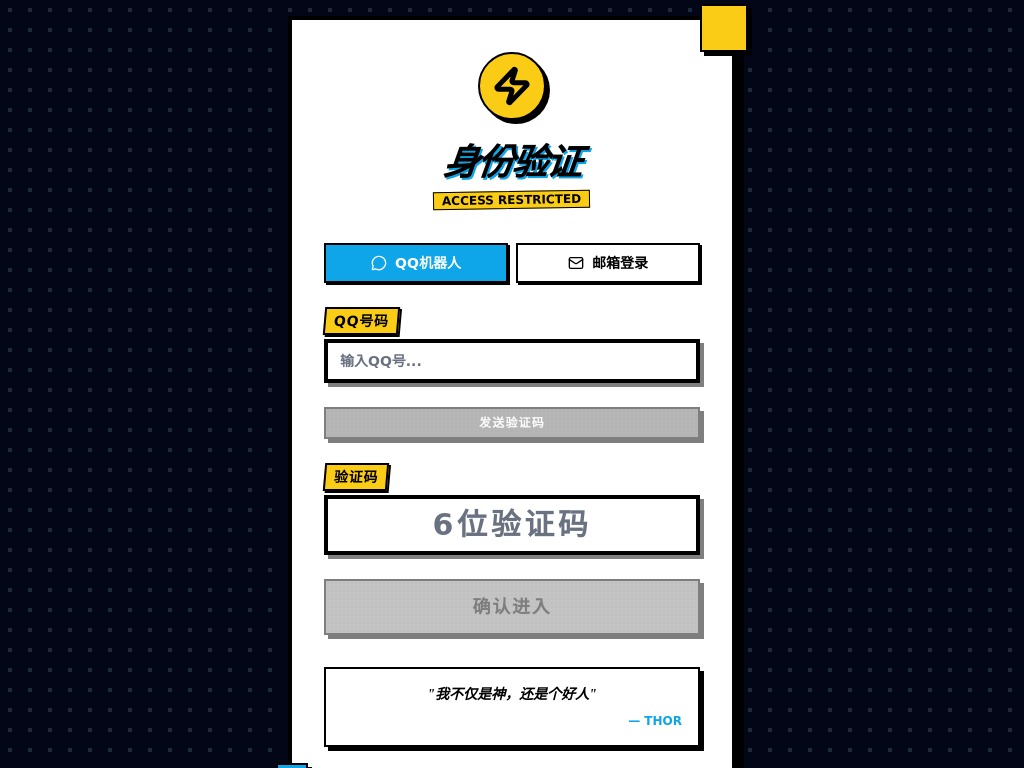
Test: LoginPage › shows backend error detail when login fails
In the field labelled "QQ号码": (512, 361) [324,339,700,383], type "123456789"
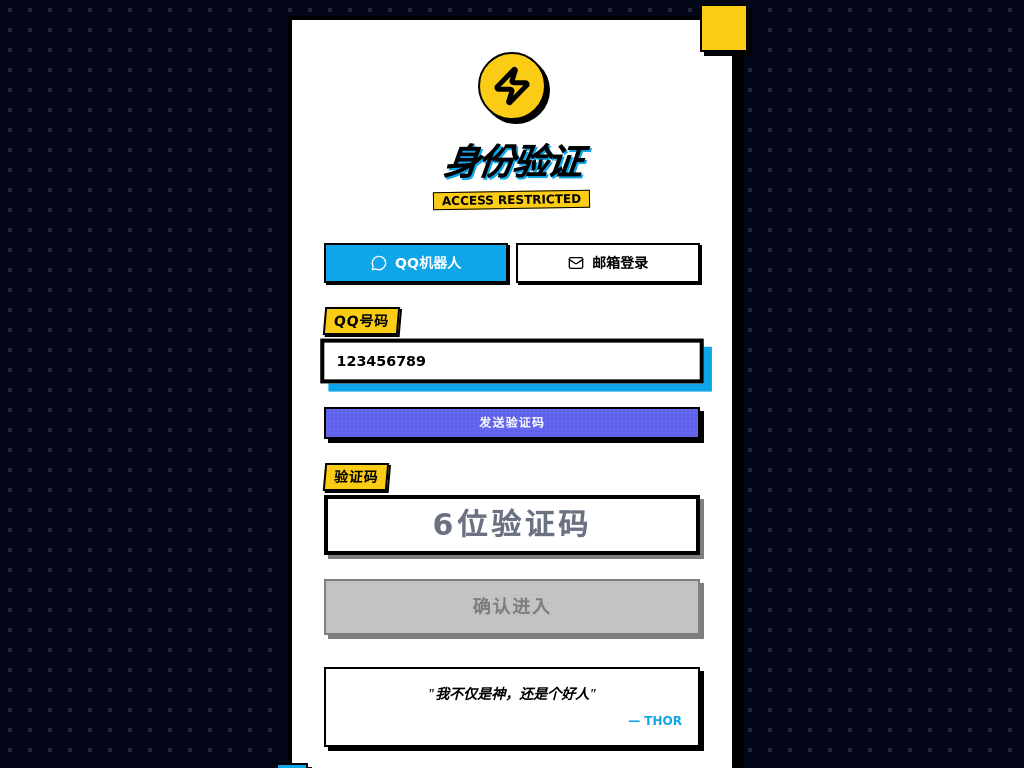
In the field labelled "验证码": (512, 525) [324,495,700,555], type "123456"
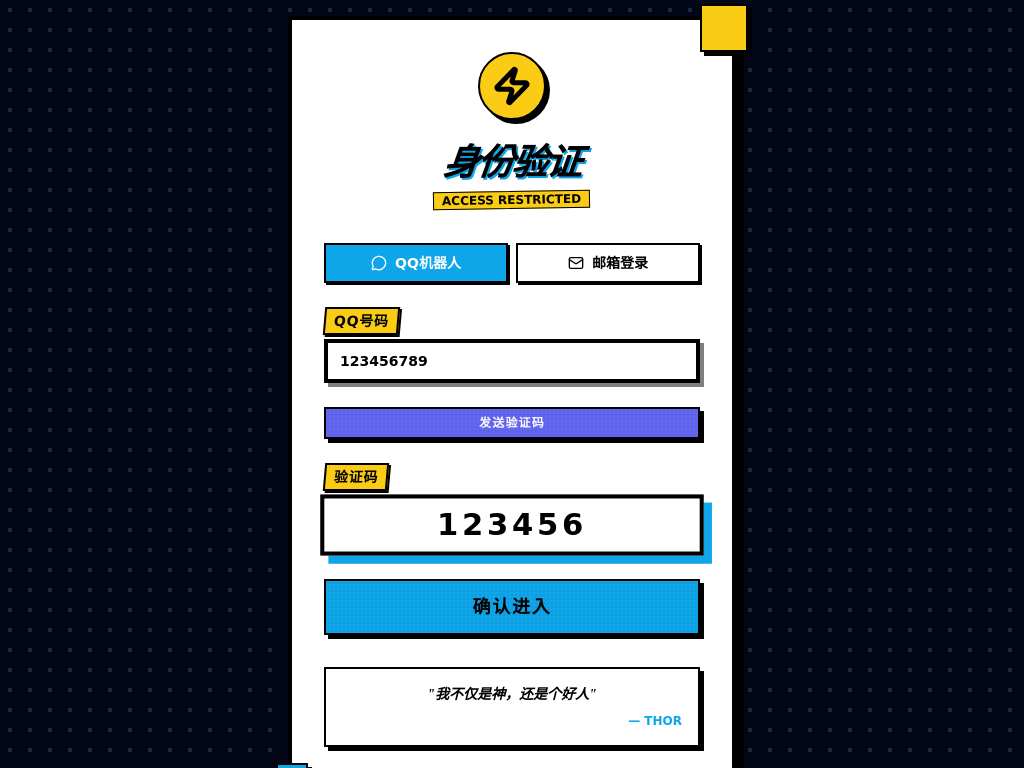
Click the button "确认进入": (512, 607) [324,579,700,635]
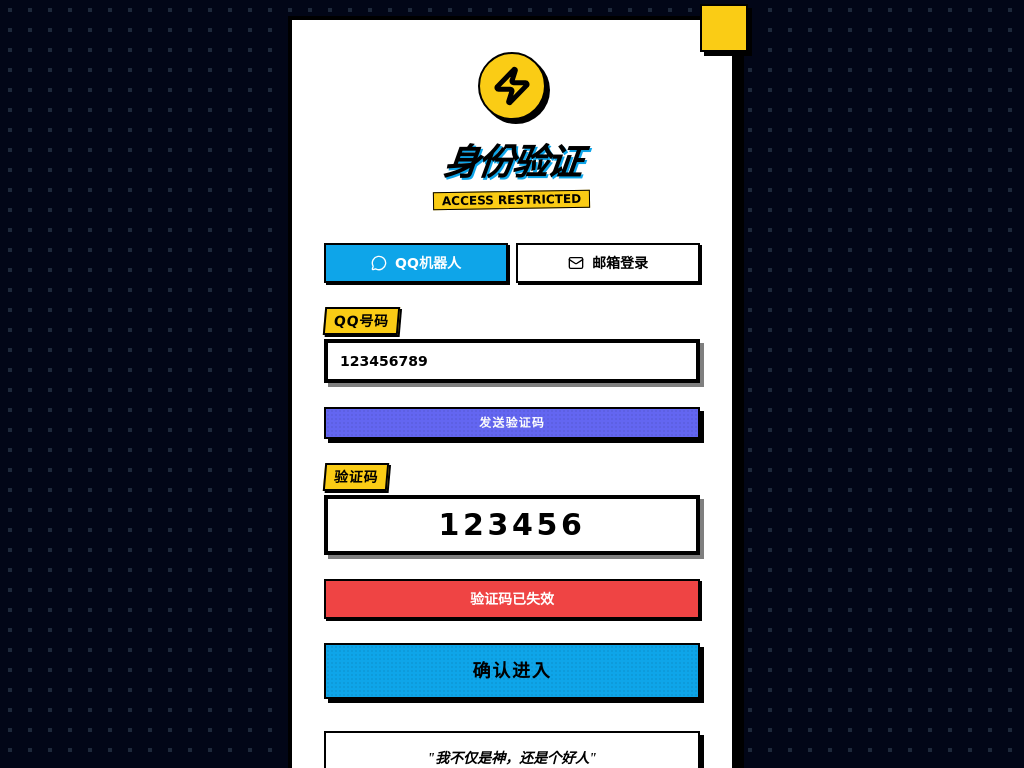
Expected: the text "验证码已失效" is shown, [324,579,700,619]
